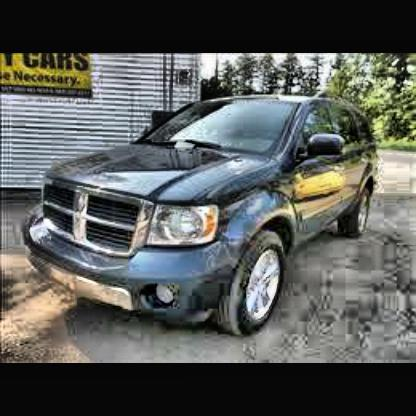Dodge Durango SUV 2007: (25, 93, 383, 344)
